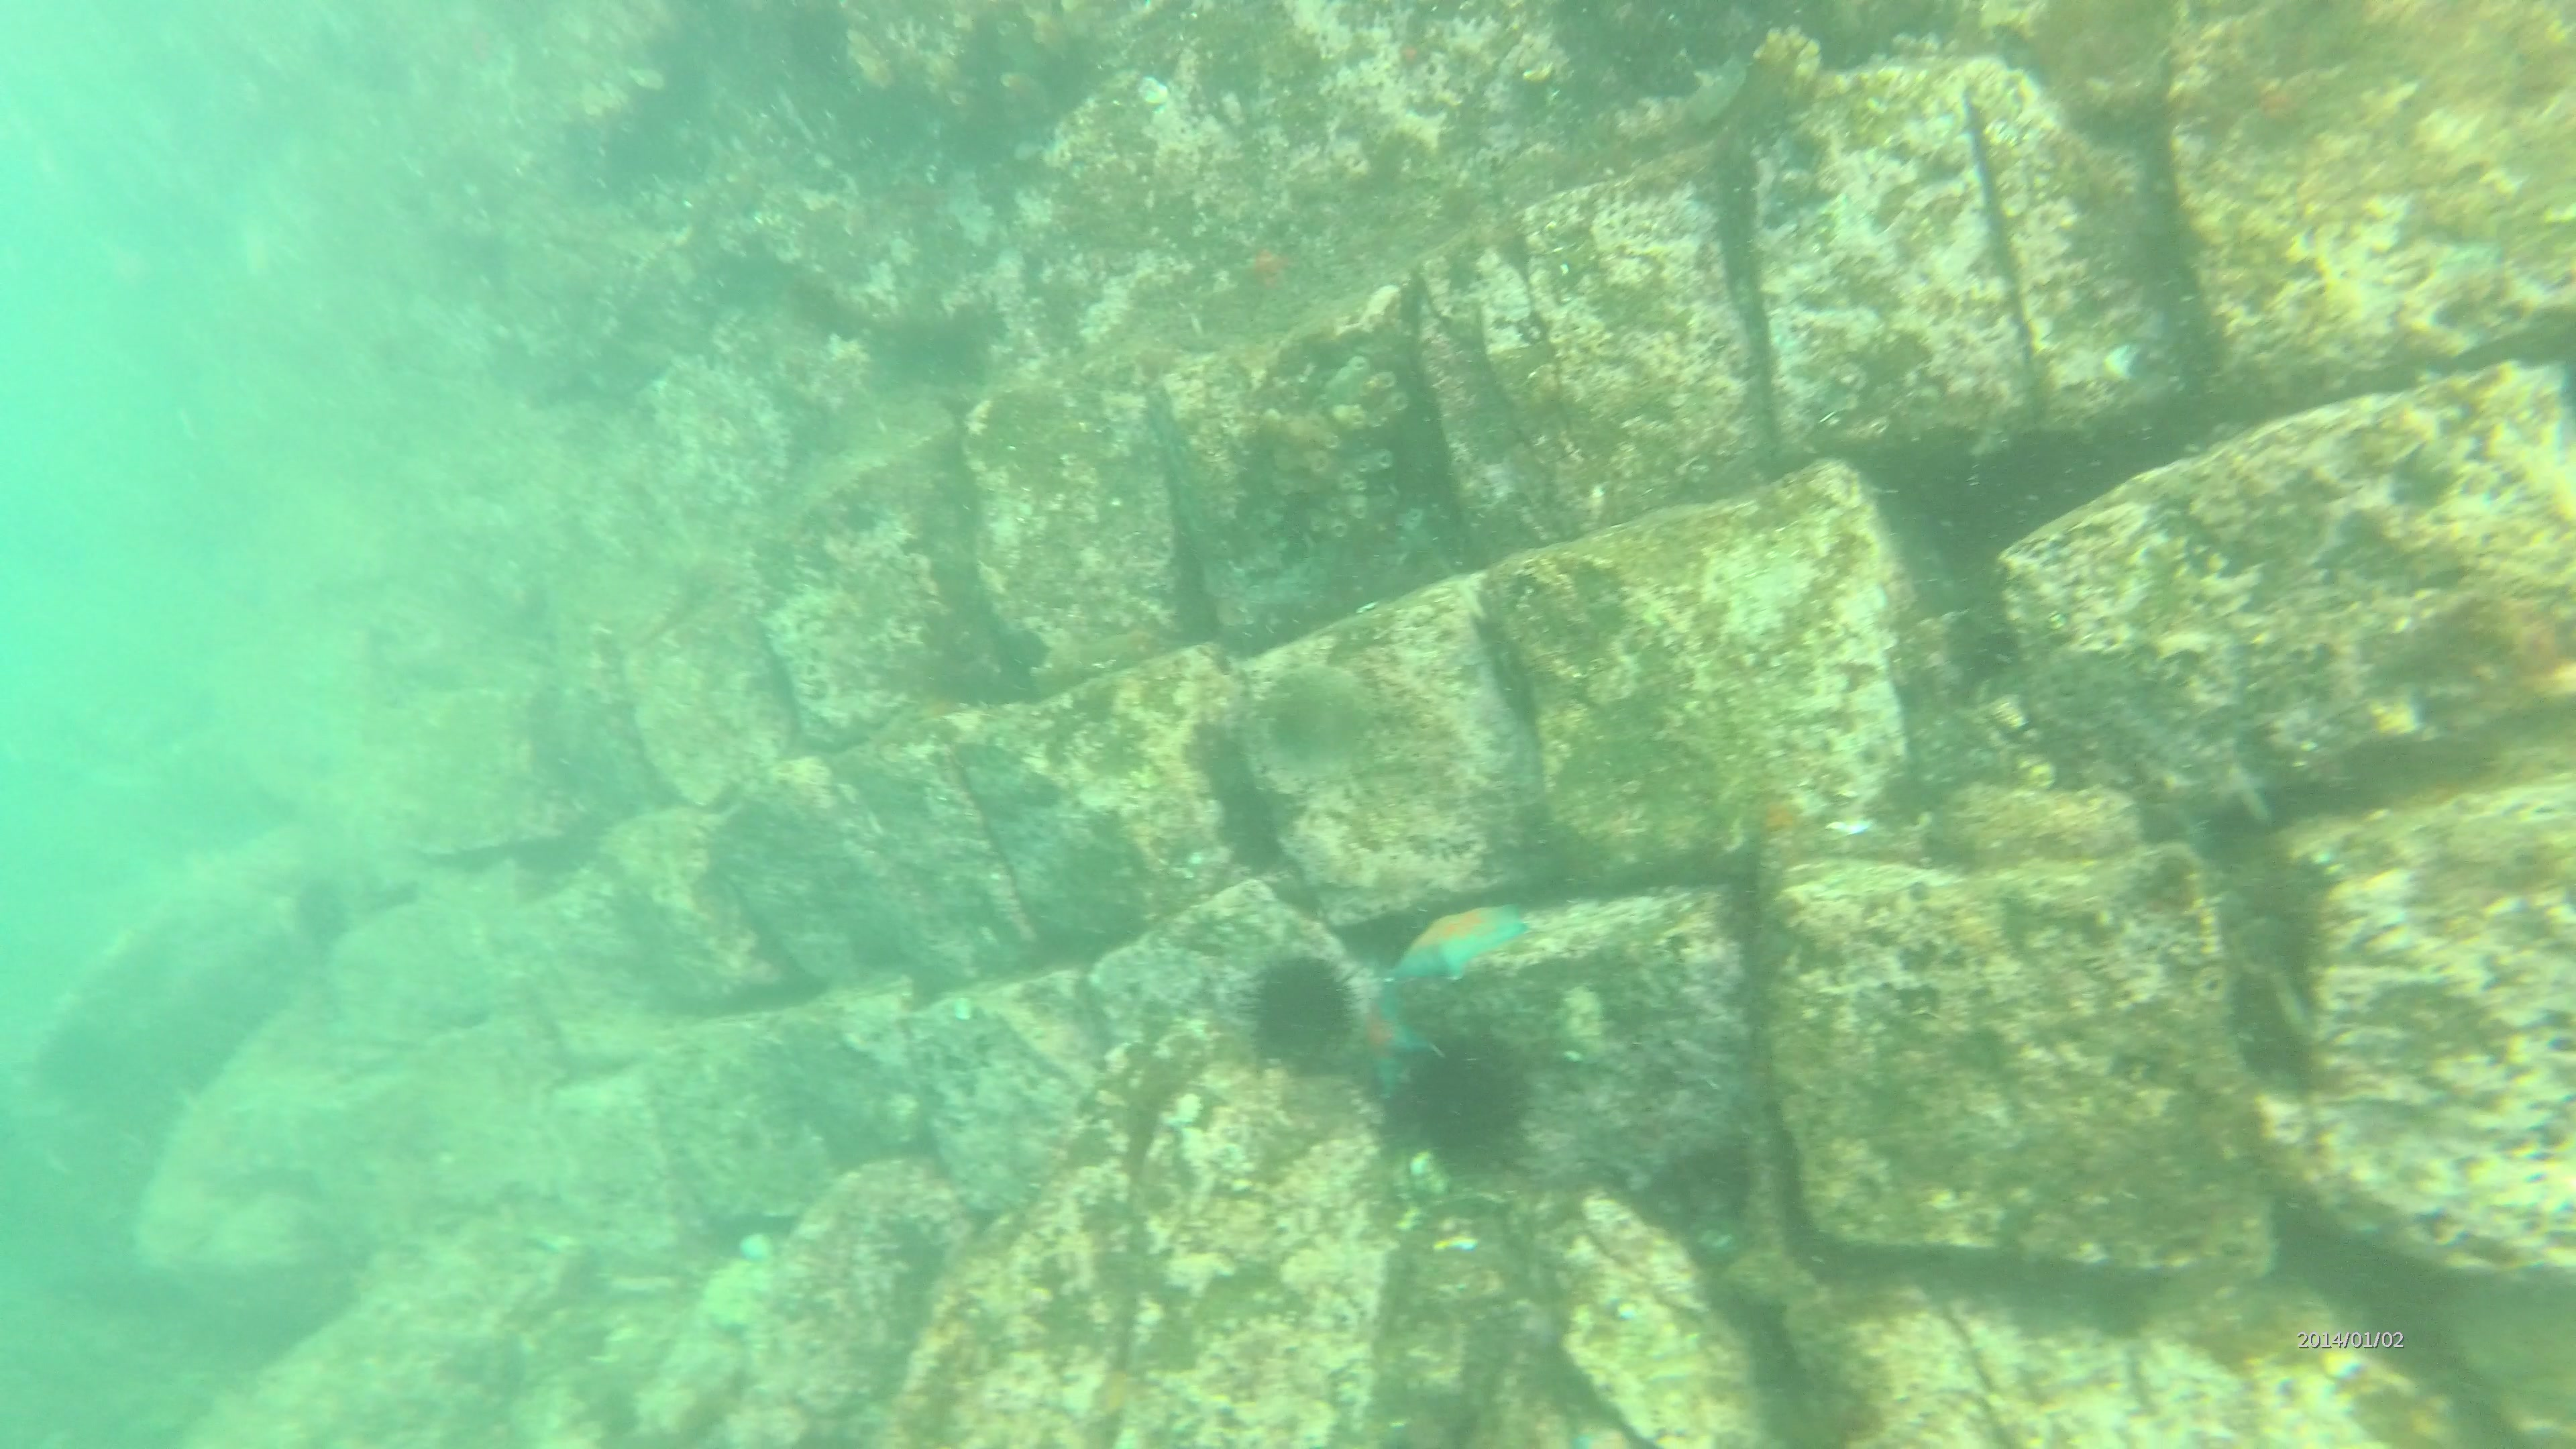echinus: (1394, 1028, 1532, 1177), (1244, 945, 1364, 1076)
starfish: (1387, 893, 1534, 984), (1346, 980, 1433, 1104)
